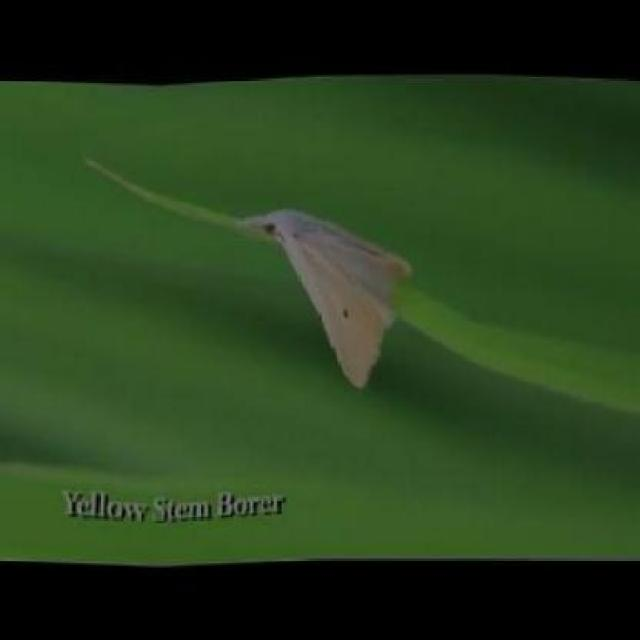stem-borer: (234, 207, 414, 393)
